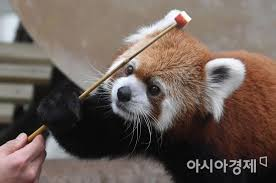redPanda: (56, 14, 252, 152)
